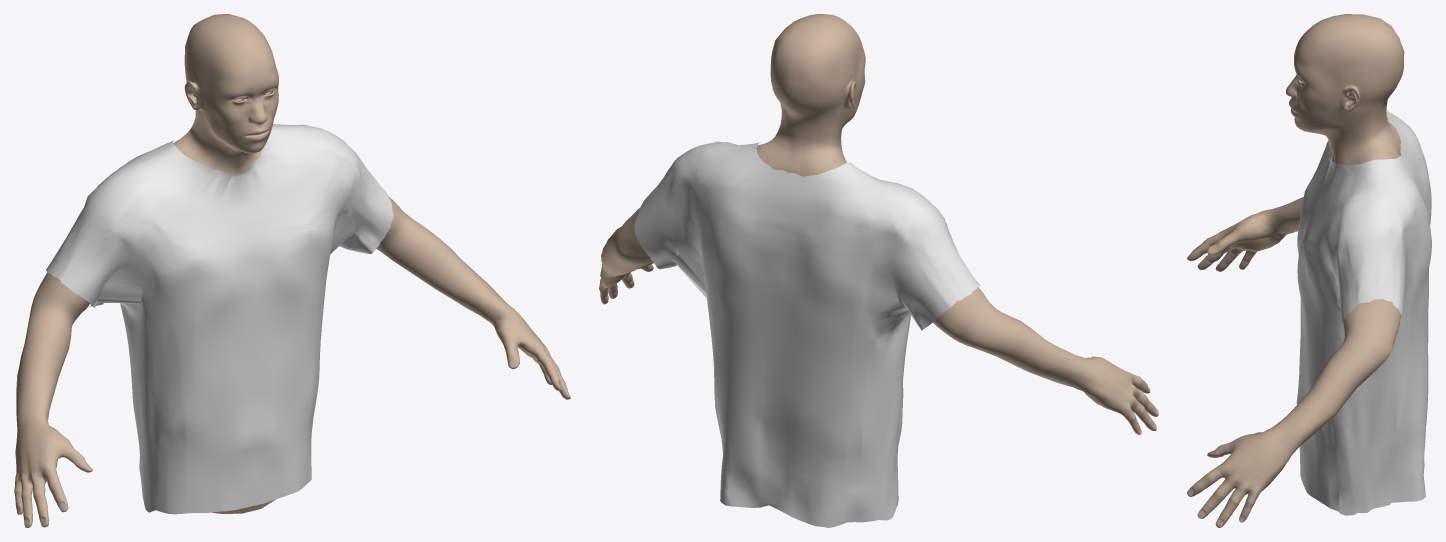
3 views of the same model, side by side, from view 1: azimuth 30°, elevation 25°; view 2: azimuth 150°, elevation 25°; view 3: azimuth 270°, elevation 25° (orthographic). The views are drawn at different scales.
Parts seen in each view (by area): view 1: Cube, Base; view 2: Cube, Base; view 3: Cube, Base.
Boxes of the visible parts, x1,y1,x2,y2 form: Cube: (46,124,393,514); Base: (14,14,570,527); Cube: (634,141,980,527); Base: (599,14,1158,434); Cube: (1296,110,1431,515); Base: (1187,14,1404,527).
Bounding box in the file's own units: 9.95 × 8.3 × 3.99.
